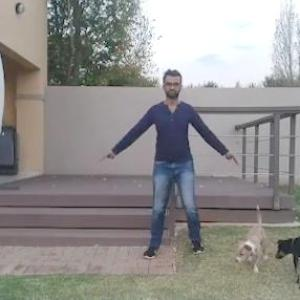land: (88, 80, 236, 248)
